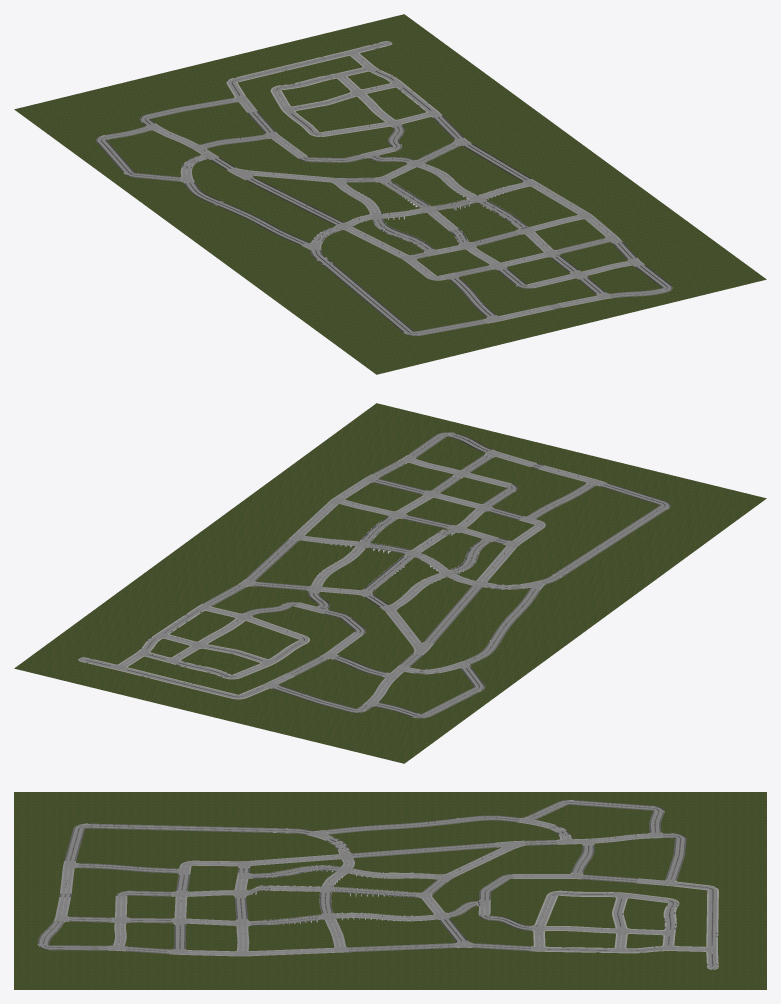
File: city_roads.glb
3 views of the same model, one above another, from view 1: azimuth 30°, elevation 25°; view 2: azimuth 150°, elevation 25°; view 3: azimuth 270°, elevation 25° (orthographic). The views are drawn at different scales.
Parts seen in each view (by area): view 1: Plane_Material.002_0, Road__2773494_LOD0_local_Two_Lane_0, Road__2773494_LOD0_local_Asphalt_Side_0, Road__2773494_LOD0_local_Asphalt_Middle_0, Road__2773494_LOD0_local_Lane_0, Road__2773494_LOD0_local_Pavement_Side_0; view 2: Plane_Material.002_0, Road__2773494_LOD0_local_Two_Lane_0, Road__2773494_LOD0_local_Asphalt_Side_0, Road__2773494_LOD0_local_Asphalt_Middle_0, Road__2773494_LOD0_local_Lane_0, Road__2773494_LOD0_local_Pavement_Side_0; view 3: Plane_Material.002_0, Road__2773494_LOD0_local_Two_Lane_0, Road__2773494_LOD0_local_Asphalt_Side_0, Road__2773494_LOD0_local_Asphalt_Middle_0, Road__2773494_LOD0_local_Lane_0, Road__2773494_LOD0_local_Pavement_Side_0, Road__2773494_LOD0_Concrete_0, Road__2773494_LOD0_Railing_0.
Part boxes in pixels (x1=…): Plane_Material.002_0: x1=14, y1=14, x2=766, y2=374; Road__2773494_LOD0_local_Two_Lane_0: x1=97, y1=42, x2=671, y2=335; Road__2773494_LOD0_local_Asphalt_Side_0: x1=96, y1=96, x2=672, y2=336; Road__2773494_LOD0_local_Asphalt_Middle_0: x1=101, y1=43, x2=667, y2=333; Road__2773494_LOD0_local_Lane_0: x1=146, y1=41, x2=641, y2=322; Road__2773494_LOD0_local_Pavement_Side_0: x1=226, y1=41, x2=441, y2=136; Plane_Material.002_0: x1=14, y1=403, x2=766, y2=763; Road__2773494_LOD0_local_Two_Lane_0: x1=82, y1=432, x2=668, y2=717; Road__2773494_LOD0_local_Asphalt_Side_0: x1=203, y1=432, x2=670, y2=718; Road__2773494_LOD0_local_Asphalt_Middle_0: x1=84, y1=434, x2=665, y2=716; Road__2773494_LOD0_local_Lane_0: x1=79, y1=450, x2=603, y2=706; Road__2773494_LOD0_local_Pavement_Side_0: x1=78, y1=603, x2=309, y2=699; Plane_Material.002_0: x1=14, y1=792, x2=766, y2=989; Road__2773494_LOD0_local_Two_Lane_0: x1=39, y1=800, x2=716, y2=967; Road__2773494_LOD0_local_Asphalt_Side_0: x1=37, y1=800, x2=686, y2=956; Road__2773494_LOD0_local_Asphalt_Middle_0: x1=43, y1=802, x2=713, y2=967; Road__2773494_LOD0_local_Lane_0: x1=55, y1=817, x2=716, y2=969; Road__2773494_LOD0_local_Pavement_Side_0: x1=531, y1=880, x2=718, y2=969; Road__2773494_LOD0_Concrete_0: x1=250, y1=865, x2=416, y2=925; Road__2773494_LOD0_Railing_0: x1=249, y1=861, x2=417, y2=940.
Size of the model in its own units: 799 by 19.77 by 1285.
Materials: 12 (11 with a texture image).
